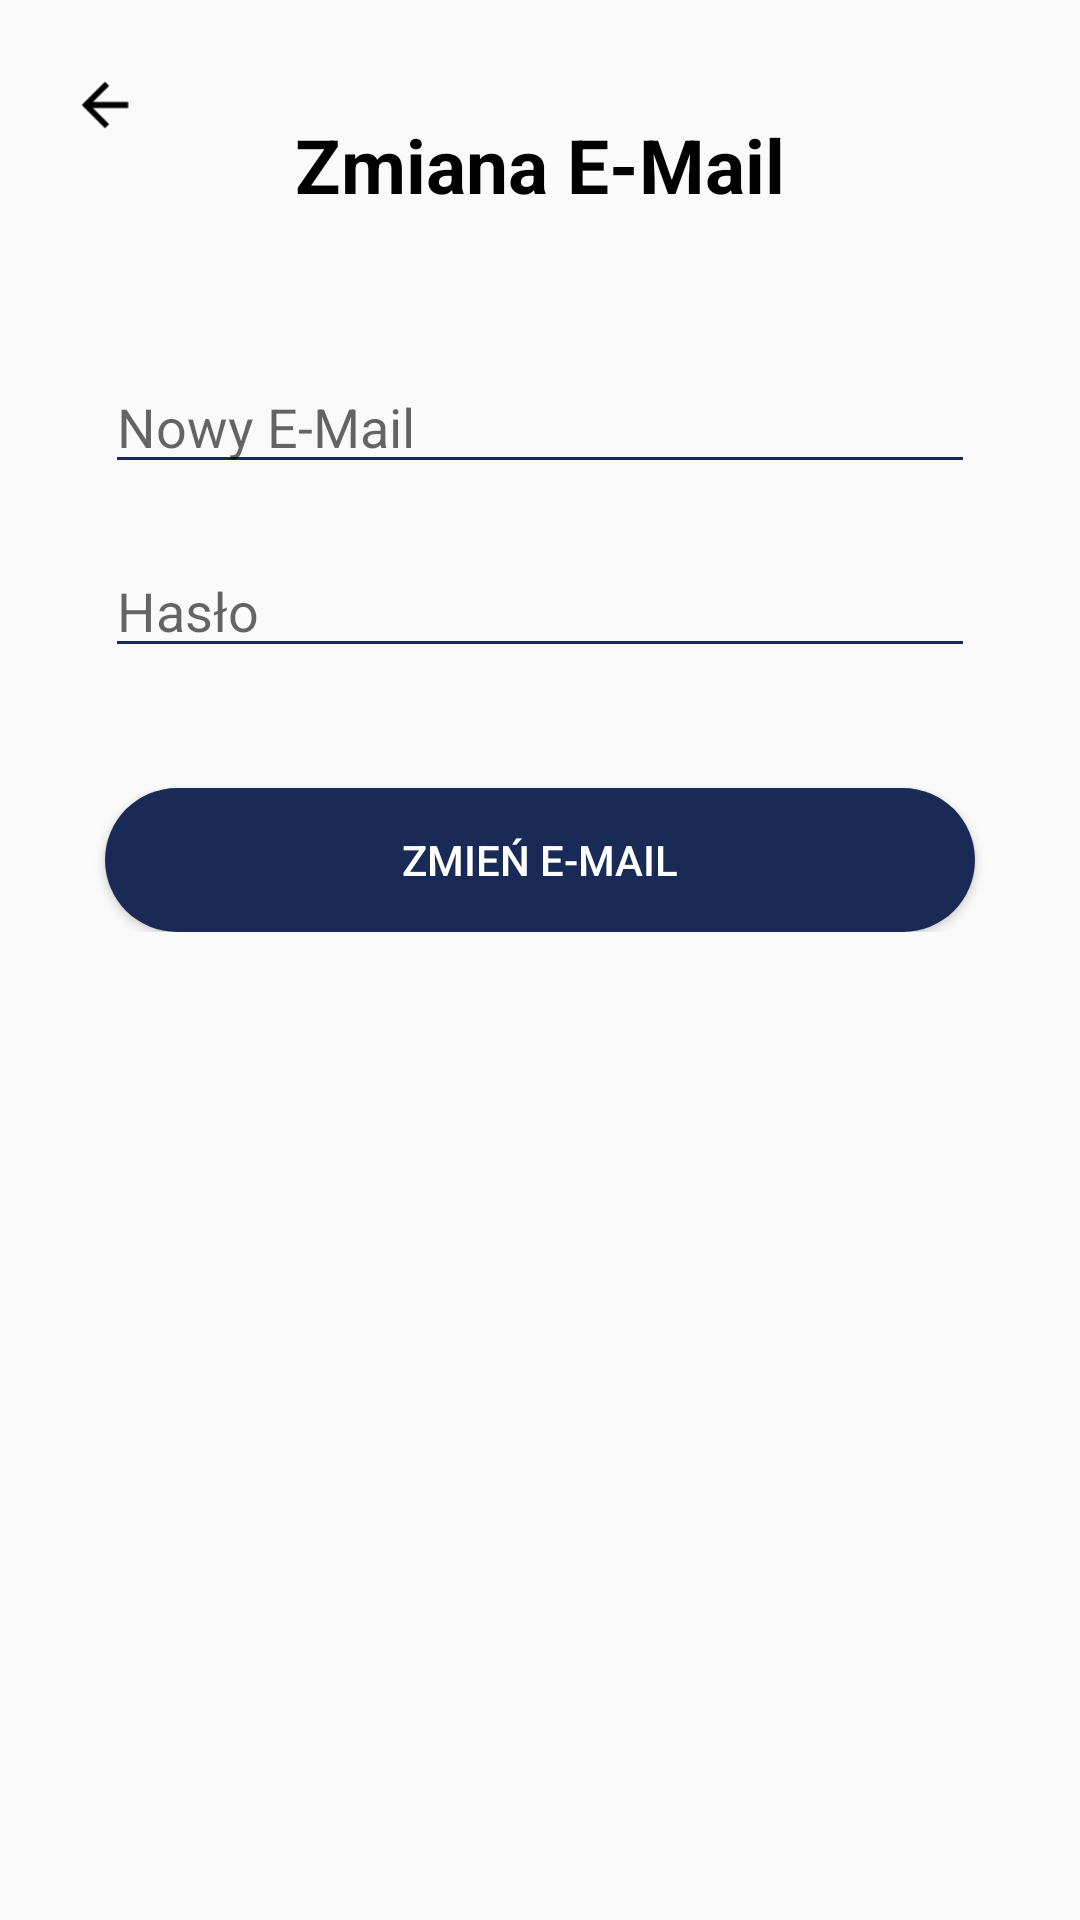

Icons on this 1080 × 1920 Android screen, each with its box as bbox(x1, y1, x2, y2):
back: bbox(82, 82, 129, 128)
